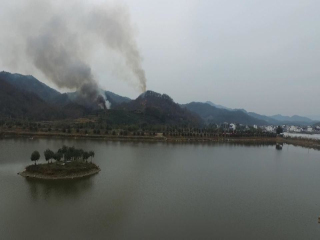smoke: (30, 15, 149, 112)
